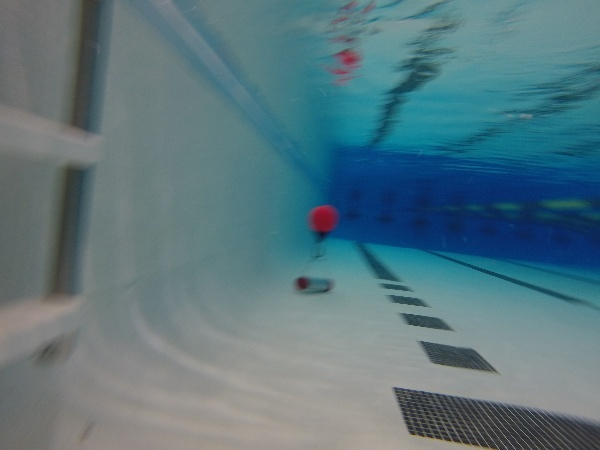buoy_red: (308, 204, 337, 243)
